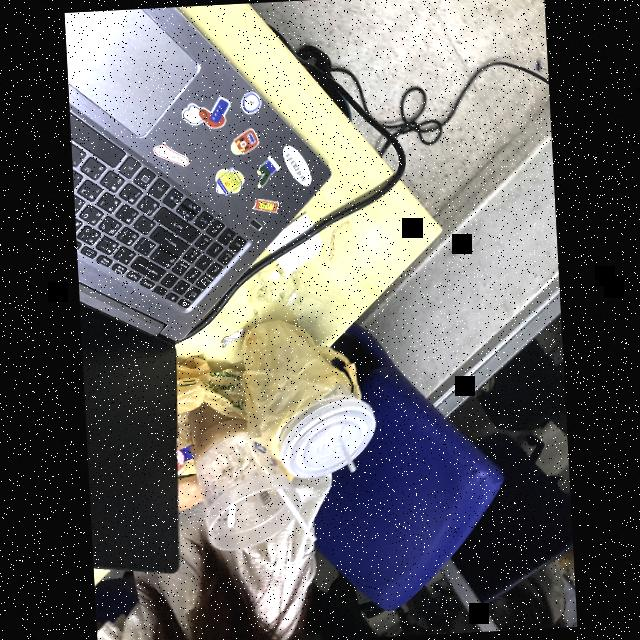plastic_bag: (238, 318, 366, 446), (171, 358, 254, 452)
plastic_cultery: (218, 460, 244, 530)
plastic_cup: (241, 320, 377, 481), (188, 406, 303, 560)
plastic_cup_lid: (278, 392, 384, 481)
scrap_paper: (263, 212, 325, 278)
scrap_plastic: (248, 266, 301, 312)
straw: (247, 441, 317, 547), (328, 420, 358, 478)
